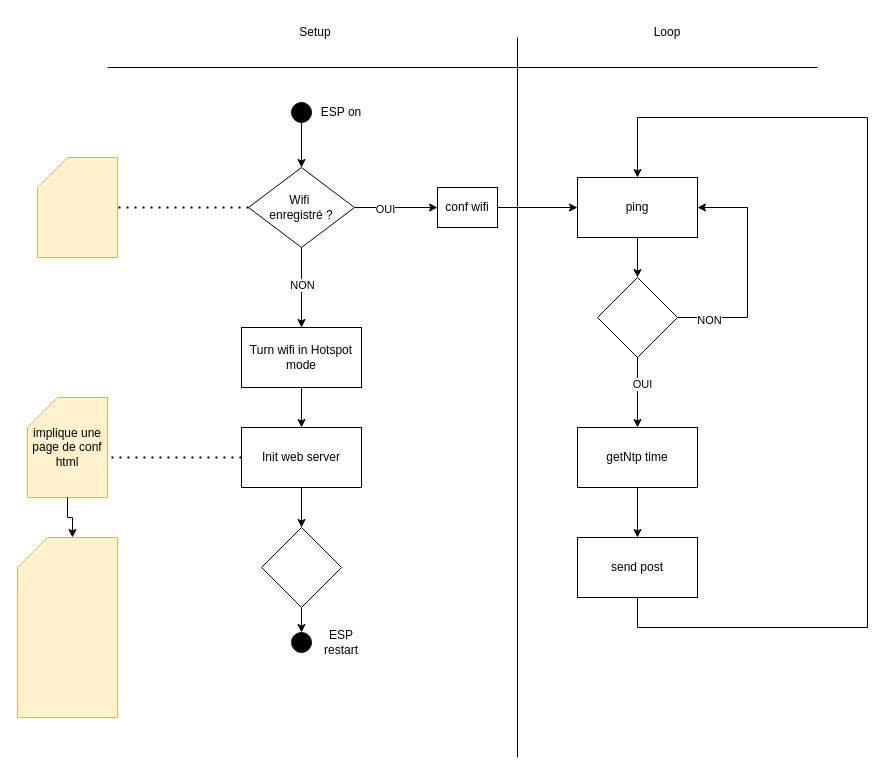
Some shapes in this 893 by 776 pixel diagram are drawn without their labels. The shapes that lost their labels are listed below. From the top down, each one's centre as x and y in pixels, then its label:
At point 77,207: "regarder dans Preferance si ssid != null".
At point 637,317: "distance changed ?".
At point 301,567: "Options enregistré ?".
At point 67,627: "penser a faire un ping de distance et id du chat".
